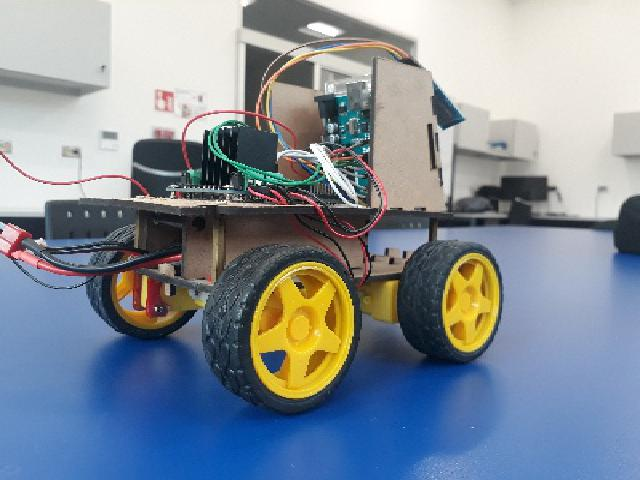Robot: (77, 37, 506, 416)
